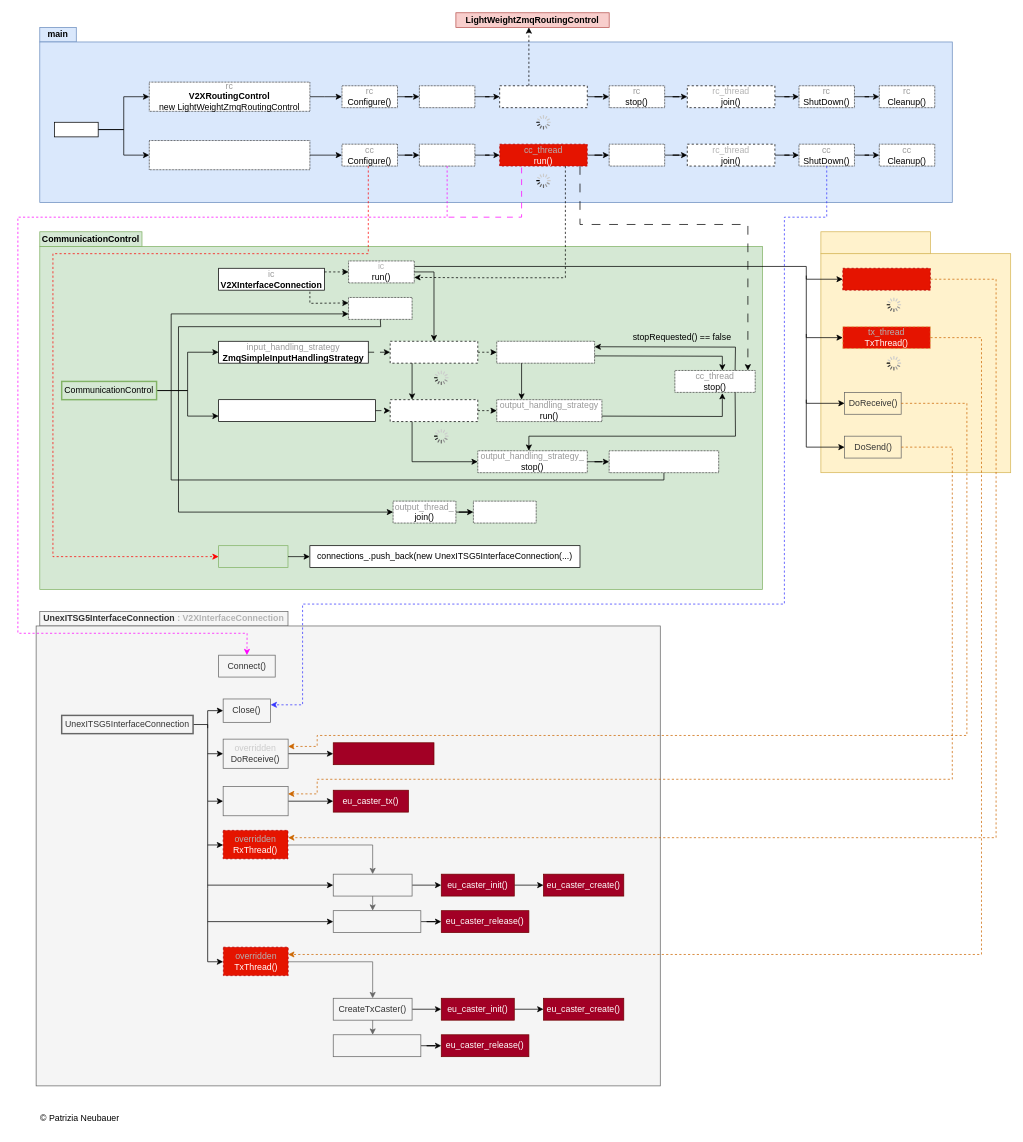
The diagram is 1023 pixels wide and 1142 high, and some of its shapes have lost their labels. The centre of each missing label's shape, as x and y in pixels:
"<<Interface>> V2XInterfaceConnection" goes at (875,242).
"cc CommunicationControl new CommunicationControl" goes at (229,155).
"cc StartUp()" goes at (447,154).
"cc stop()" goes at (636,154).
"Configure()" goes at (253,556).
"CreateRxCaster()" goes at (372,884).
"eu_caster_rx_timeout()" goes at (383,753).
"ic stop()" goes at (380,308).
"input_handling_strategy run()" goes at (545,352).
"input_handling_strategy_ stop()" goes at (663,461).
"input_thread_ join()" goes at (504,511).
"input_thread_ new std::thread(...)" goes at (433,352).
"main()" goes at (76,129).
"output_handling_strategy ZmqSimpleOutputHandlingStrategy" goes at (297,410).
"output_thread_ new std::thread(...)" goes at (433,410).
"overridden DoSend()" goes at (255,801).
"rc StartUp()" goes at (447,96).
"rc_thread run()" goes at (543,96).
"ReleaseRxCaster()" goes at (377,921).
"ReleaseTxCaster()" goes at (377,1045).
"rx_thread RxThread()" goes at (886,279).
